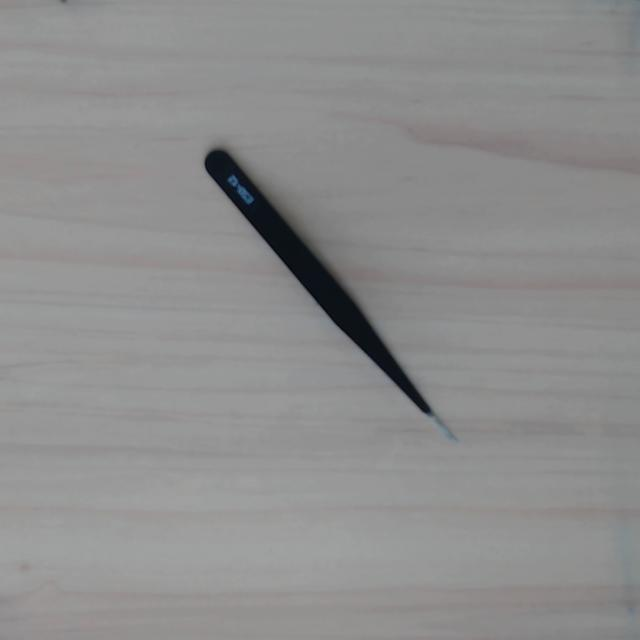Tweezers: (197, 143, 465, 450)
